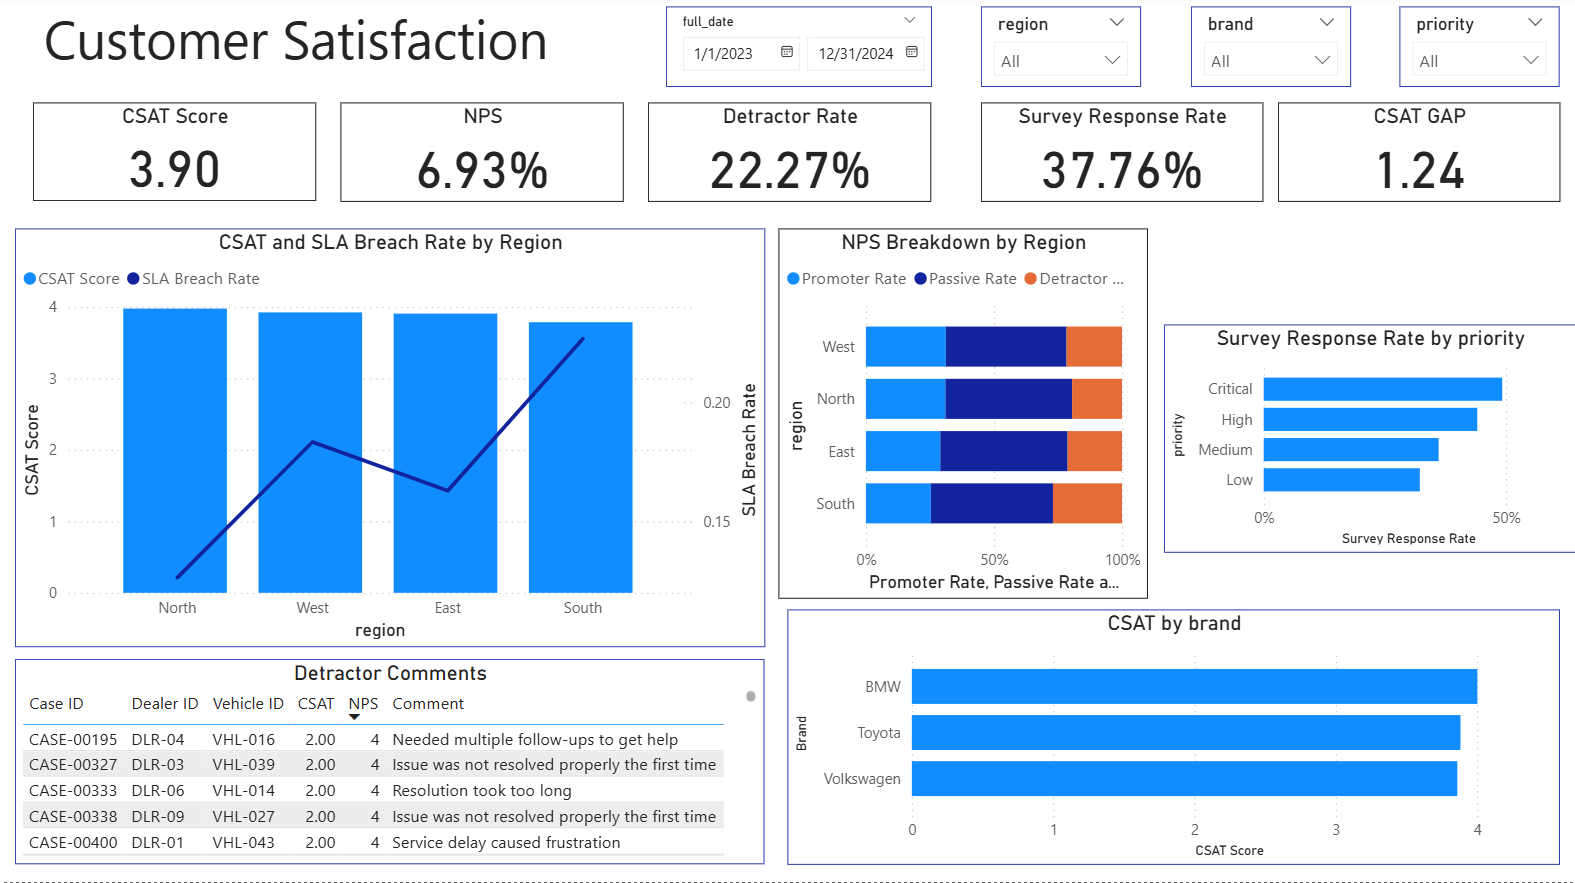

Layout of this report page (visuals, bound fields, positions):
{"tool":"powerbi","page":{"name":"Customer Satisfaction","canvas":[1280,720],"ordinal":4},"visuals":[{"type":"textbox","box":[30.4,0,476.2,74.1],"z":0},{"type":"card","title":"CSAT Score","fields":{"Values":["fct_case_resolution.CSAT Score"]},"box":[26.7,86.9,230,80],"z":1000},{"type":"card","title":"NPS","fields":{"Values":["stg_customer_feedback.NPS"]},"box":[276.6,86.5,230.3,80.4],"z":2000},{"type":"card","title":"Detractor Rate","fields":{"Values":["fct_case_resolution.Detractor Rate"]},"box":[526.3,86.5,230.3,80.4],"z":3000},{"type":"card","title":"Survey Response Rate","fields":{"Values":["fct_case_resolution.Survey Response Rate"]},"box":[796.8,86.5,229,80.4],"z":4000},{"type":"lineClusteredColumnComboChart","title":"CSAT and SLA Breach Rate by Region","fields":{"Category":["raw_dim_dealer.region"],"Y":["fct_case_resolution.CSAT Score"],"Y2":["fct_case_resolution.SLA Breach Rate"]},"box":[12.2,188.8,609.1,339.9],"z":5000},{"type":"hundredPercentStackedBarChart","title":"NPS Breakdown by Region","fields":{"Category":["raw_dim_dealer.region"],"Y":["fct_case_resolution.Promoter Rate","fct_case_resolution.Passive Rate","fct_case_resolution.Detractor Rate"]},"box":[632.3,188.8,300,300.9],"z":6000},{"type":"clusteredBarChart","title":"CSAT by brand","fields":{"Category":["raw_dim_vehicle.brand"],"Y":["fct_case_resolution.CSAT Score"]},"box":[639.6,498.3,627.4,207.1],"z":7000},{"type":"tableEx","title":"Detractor Comments","fields":{"Values":["fct_case_resolution.case_id","fct_case_resolution.dealer_id","fct_case_resolution.vehicle_id","fct_case_resolution.CSAT Score","stg_customer_feedback.nps_score","stg_customer_feedback.comment_text"]},"box":[12.1,538.2,608.6,166.4],"z":8000},{"type":"clusteredBarChart","fields":{"Category":["fct_case_resolution.priority"],"Y":["fct_case_resolution.Survey Response Rate"]},"box":[945.4,266.8,335,185.2],"z":9000},{"type":"slicer","fields":{"Values":["raw_dim_date.full_date"]},"box":[540.6,8.5,216.2,65.6],"z":10000},{"type":"slicer","fields":{"Values":["raw_dim_dealer.region"]},"box":[796.9,8.5,130,65.6],"z":11000},{"type":"slicer","fields":{"Values":["raw_dim_vehicle.brand"]},"box":[967,8.5,130,65.6],"z":12000},{"type":"slicer","fields":{"Values":["fct_case_resolution.priority"]},"box":[1137.1,8.5,130,65.6],"z":13000},{"type":"card","title":"CSAT GAP","fields":{"Values":["fct_case_resolution.CSAT Gap"]},"box":[1038,86.5,229,80.4],"z":14000}]}

Visuals, with their boxes in screenshot pixels (x1, y1, x2, y2), scaled from the page's 1280x720 canvas onto the 1575x883 screenshot:
textbox: <bbox>37, 0, 623, 91</bbox>
"CSAT Score" card: <bbox>33, 107, 316, 205</bbox>
"NPS" card: <bbox>340, 106, 624, 205</bbox>
"Detractor Rate" card: <bbox>648, 106, 931, 205</bbox>
"Survey Response Rate" card: <bbox>980, 106, 1262, 205</bbox>
"CSAT and SLA Breach Rate by Region" lineClusteredColumnComboChart: <bbox>15, 232, 764, 648</bbox>
"NPS Breakdown by Region" hundredPercentStackedBarChart: <bbox>778, 232, 1147, 601</bbox>
"CSAT by brand" clusteredBarChart: <bbox>787, 611, 1559, 865</bbox>
"Detractor Comments" tableEx: <bbox>15, 660, 764, 864</bbox>
clusteredBarChart - fct_case_resolution.priority x fct_case_resolution.Survey Response Rate: <bbox>1163, 327, 1574, 554</bbox>
slicer - raw_dim_date.full_date: <bbox>665, 10, 931, 91</bbox>
slicer - raw_dim_dealer.region: <bbox>981, 10, 1141, 91</bbox>
slicer - raw_dim_vehicle.brand: <bbox>1190, 10, 1350, 91</bbox>
slicer - fct_case_resolution.priority: <bbox>1399, 10, 1559, 91</bbox>
"CSAT GAP" card: <bbox>1277, 106, 1559, 205</bbox>
